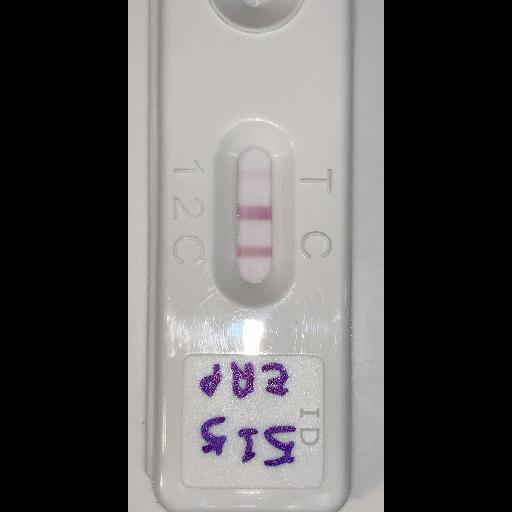Pos: (153, 0, 347, 511)
